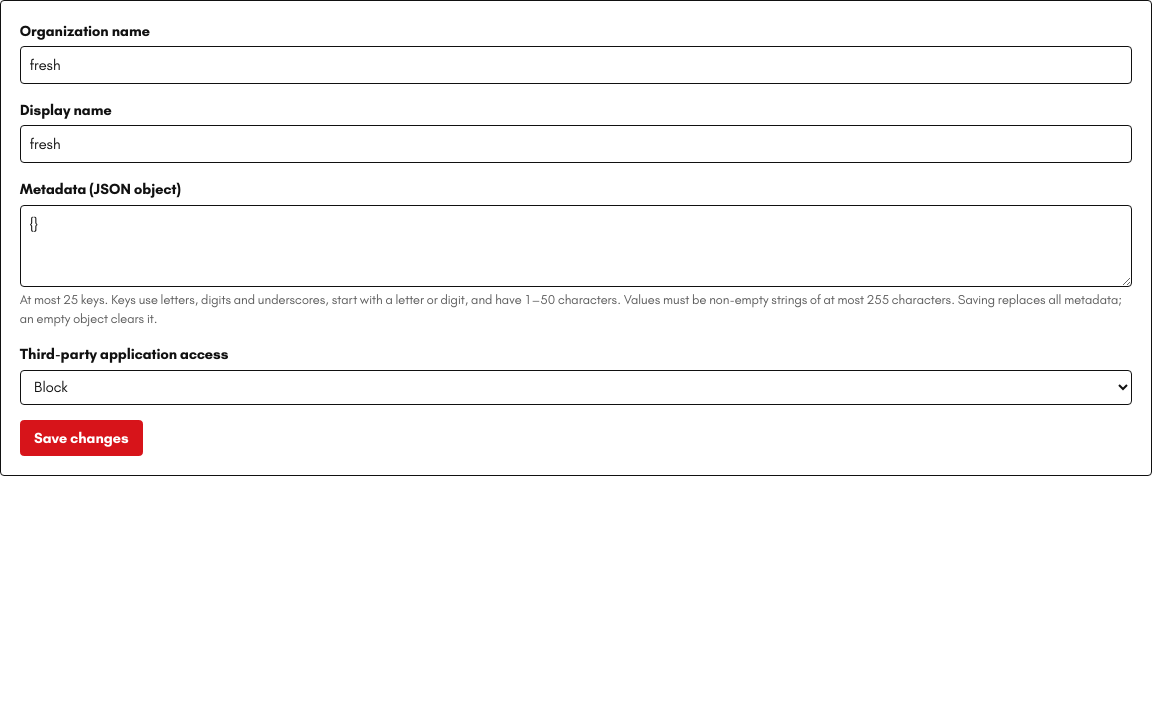
Test: retains a failed settings draft and requires a reload before another write
Replace the text in the field with id "organization-display-name" with "Unsaved" at (576, 144), box [20, 125, 1132, 163]
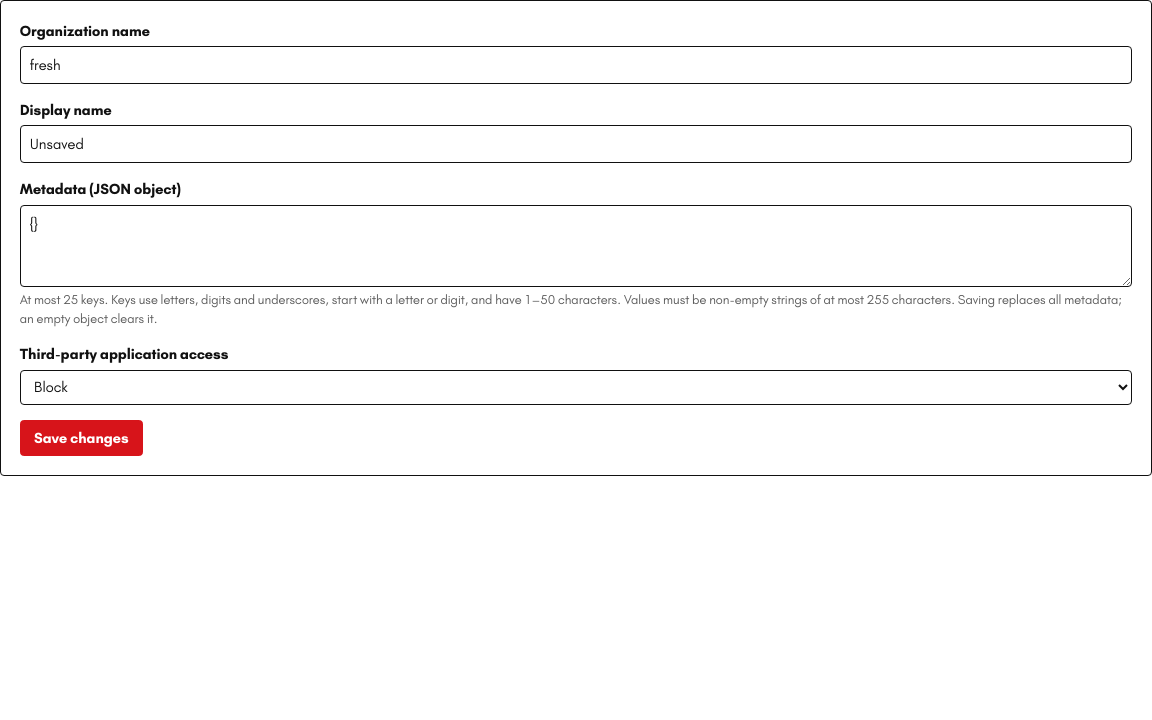
Submit the form
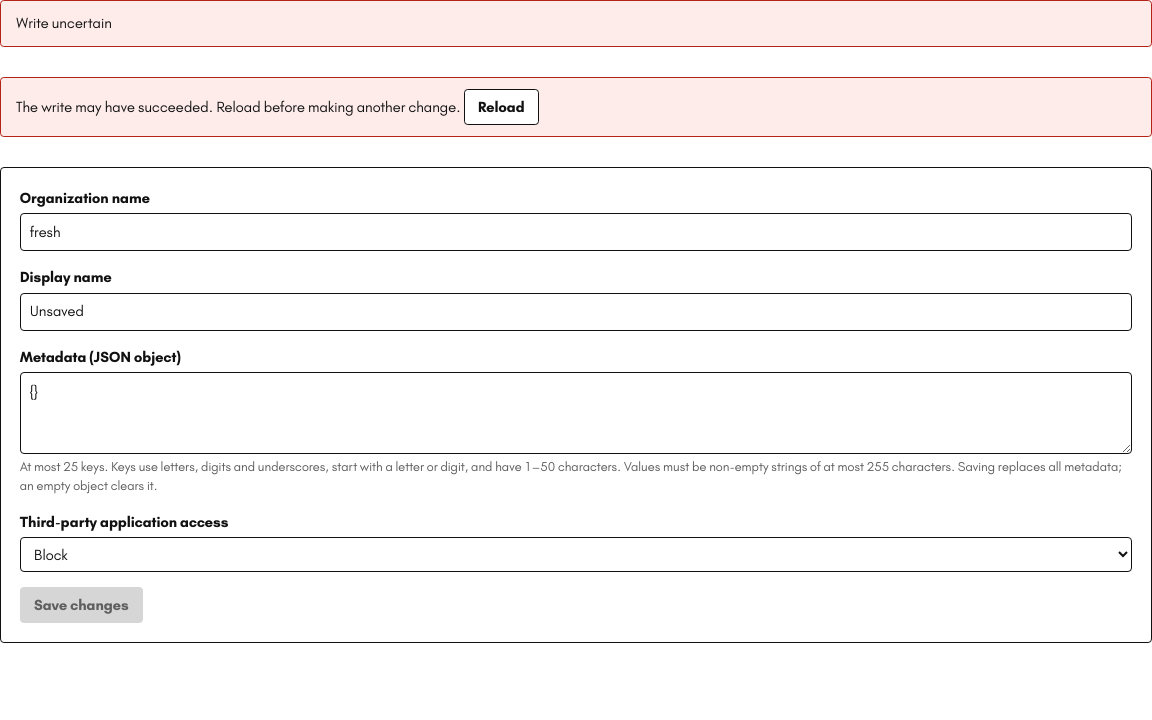
Expected: the text "Reload before" is shown, [16, 98, 464, 116]
Expected: the submit button is disabled, [20, 587, 143, 623]
Submit the form
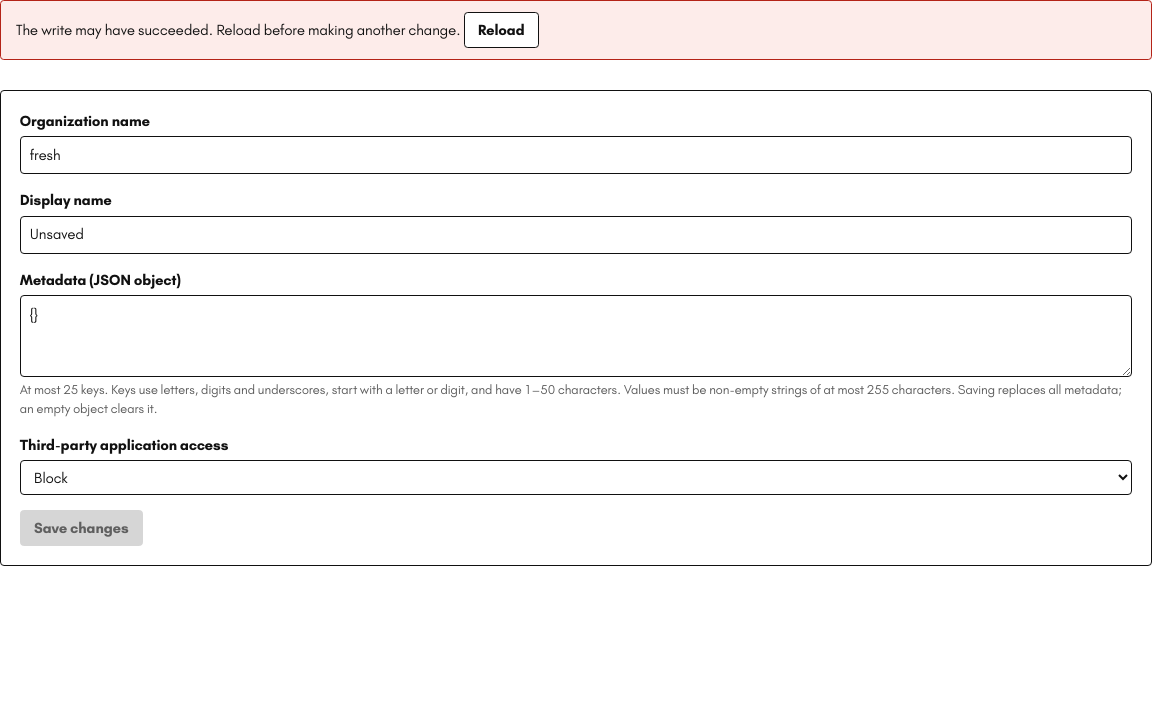
Click the button "Reload" at (501, 30), box [464, 12, 539, 48]
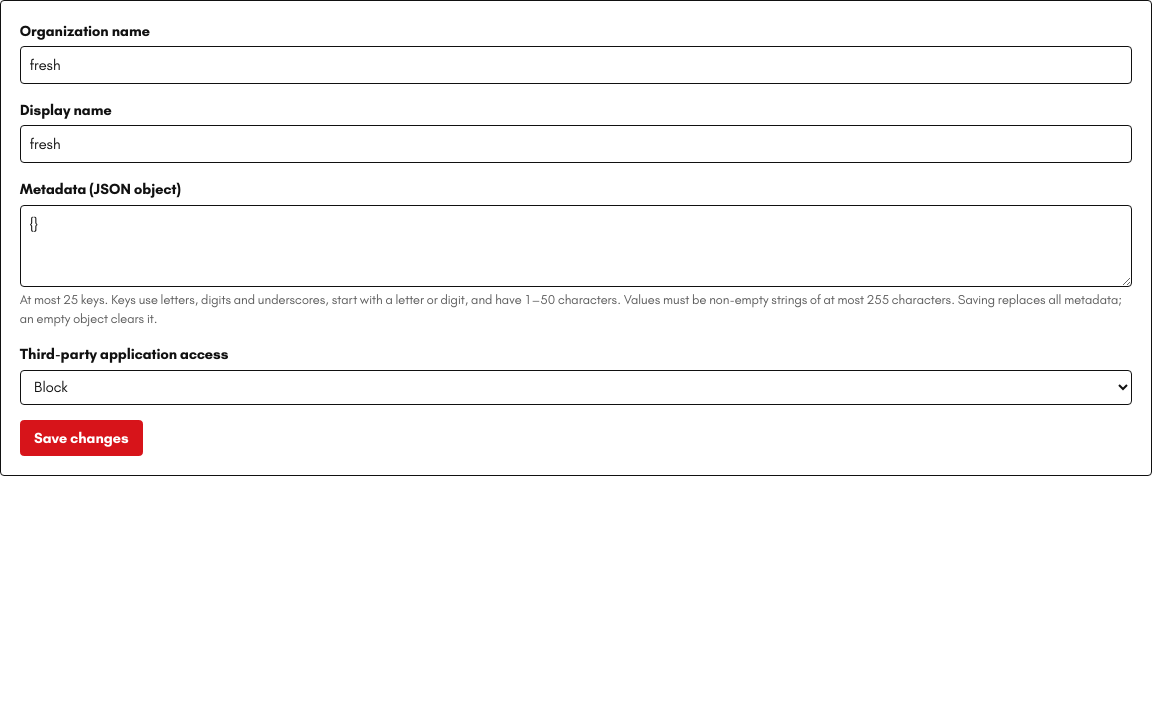
Expected: the field with id "organization-display-name" holds "fresh", [20, 125, 1132, 163]
